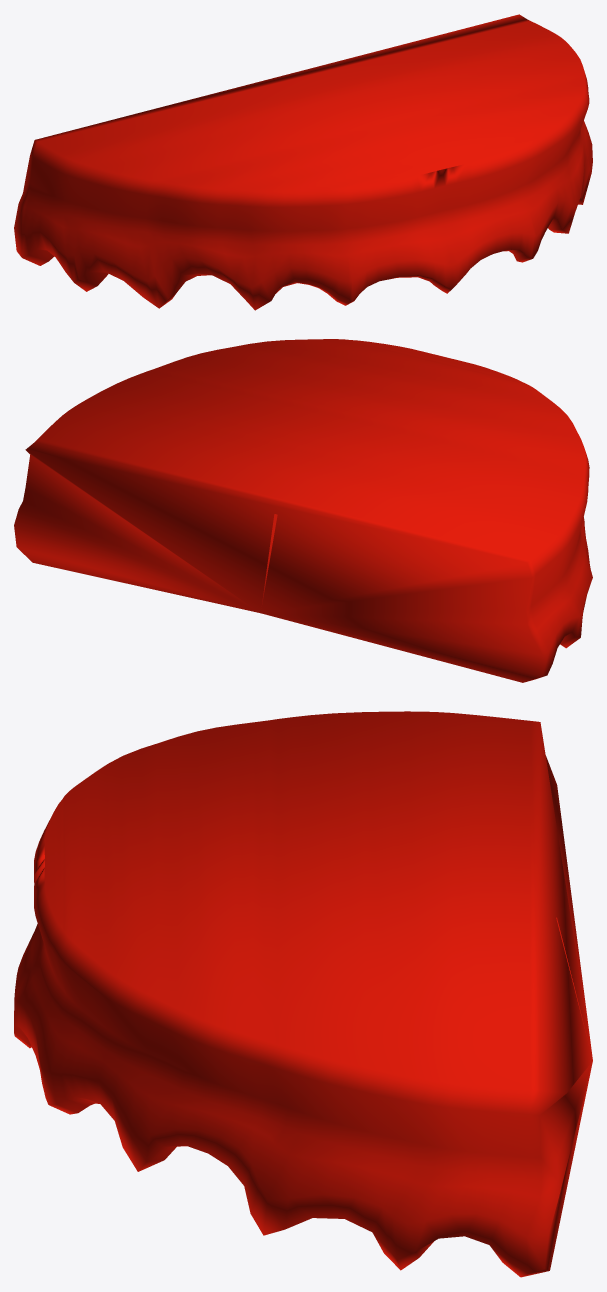
The picture shows the model from 3 angles, top to bottom: view 1: azimuth 30°, elevation 25°; view 2: azimuth 150°, elevation 25°; view 3: azimuth 270°, elevation 25°; orthographic projection. The views are drawn at different scales.
Parts seen in each view (by area): view 1: Caine.Denture.006; view 2: Caine.Denture.006; view 3: Caine.Denture.006.
Boxes of the visible parts, x1,y1,x2,y2 form: Caine.Denture.006: (14, 14, 592, 310); Caine.Denture.006: (14, 339, 592, 682); Caine.Denture.006: (14, 711, 592, 1277).
Bounding box in the file's own units: 0.4587 × 0.1242 × 0.2833.
